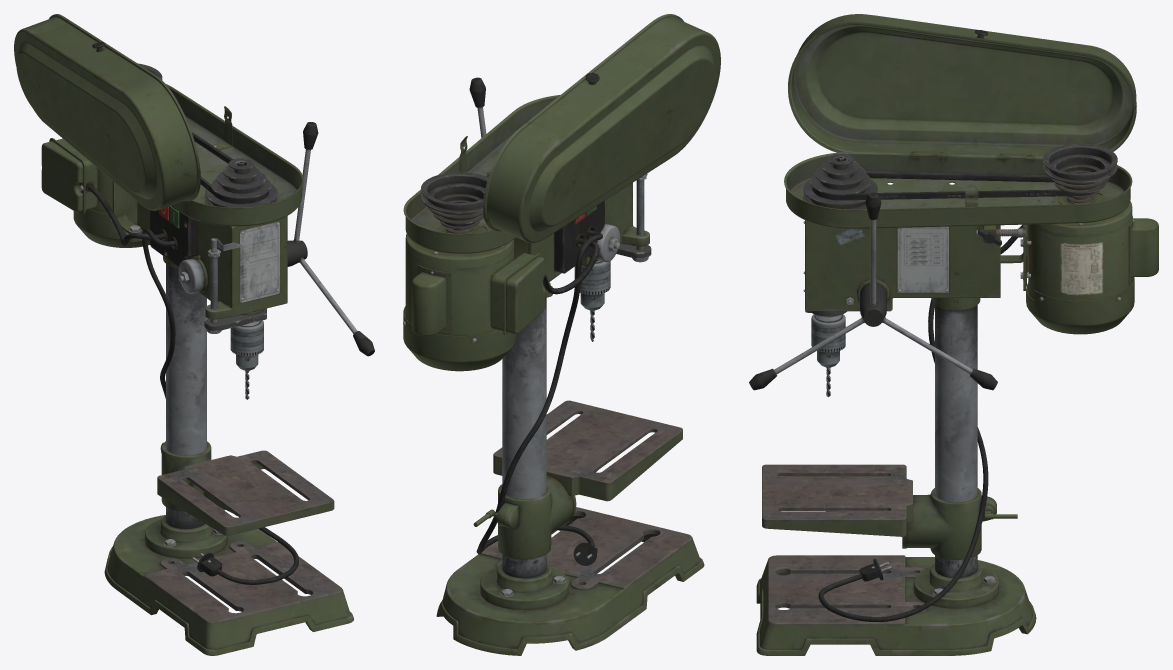
Rendered from drill_press_01.glb.
3 renders of one model, left to right at view 1: azimuth 30°, elevation 25°; view 2: azimuth 150°, elevation 25°; view 3: azimuth 270°, elevation 25°, orthographic. The views are drawn at different scales.
Parts seen in each view (by area): view 1: drill_press_01; view 2: drill_press_01; view 3: drill_press_01.
Boxes of the visible parts, x1=… form: drill_press_01: x1=14, y1=14, x2=374, y2=655; drill_press_01: x1=403, y1=14, x2=720, y2=655; drill_press_01: x1=749, y1=14, x2=1158, y2=655.
Size of the model in its own units: 0.3543 by 0.9011 by 0.5988.
1 material, 1 textured.
